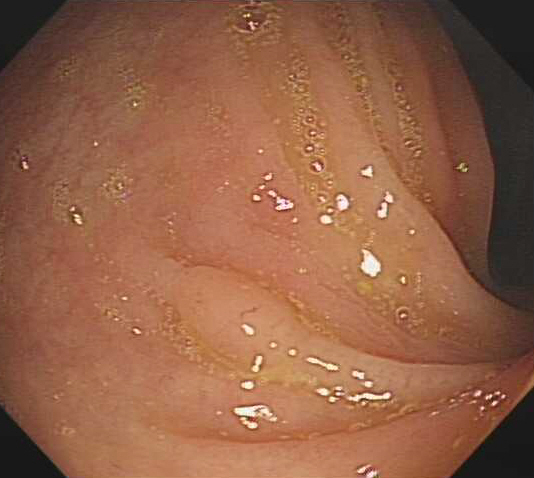others: (163, 261, 302, 372)
